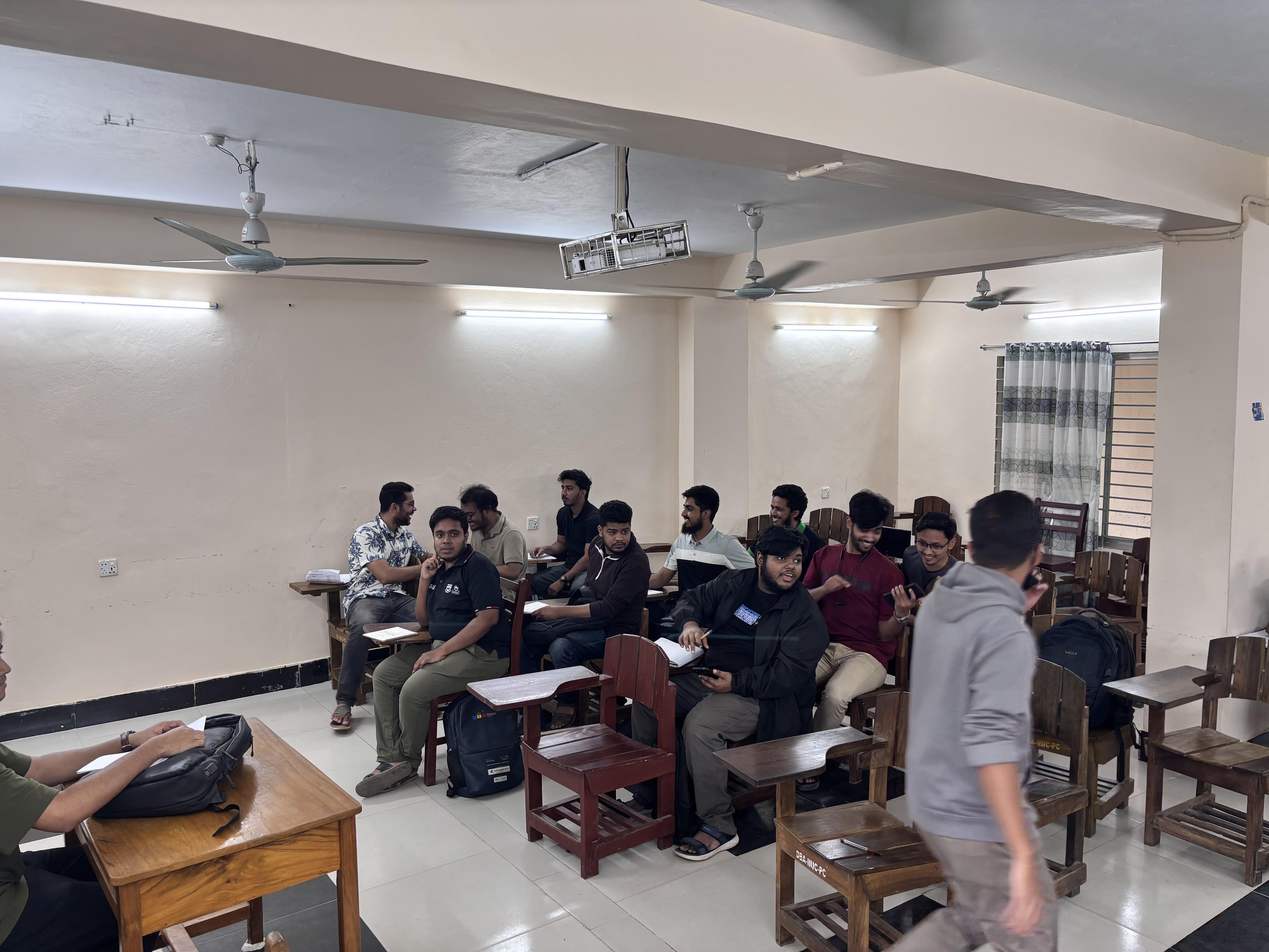invigilator: (899, 487, 1070, 952), (0, 626, 210, 952)
no_cheating: (457, 480, 532, 589), (540, 464, 603, 566)
side_talking: (331, 478, 428, 731)
suspicious_moving: (352, 504, 513, 796), (548, 496, 653, 656), (653, 478, 752, 619), (751, 473, 834, 552)
using_phone: (660, 520, 826, 868), (814, 489, 965, 720)
